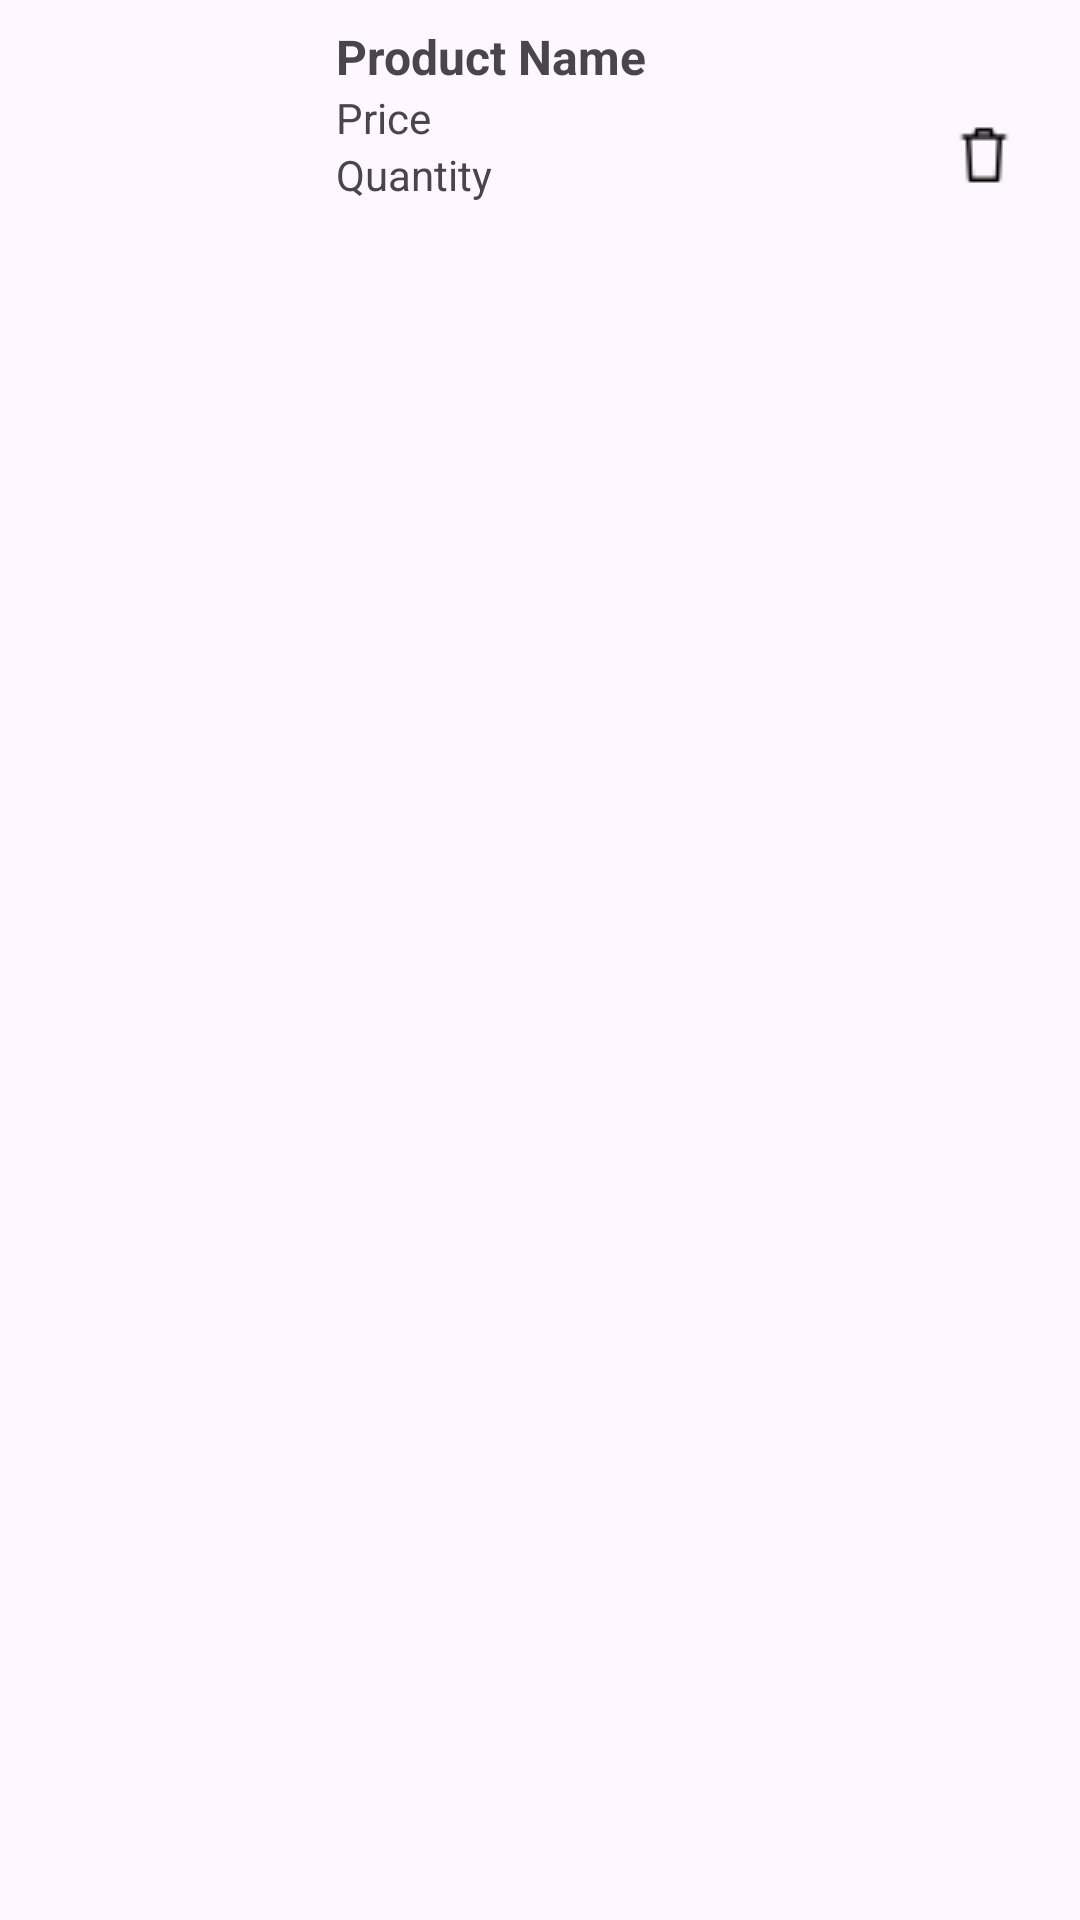

Named icons in this screenshot (1080x1920) and their centers, point (x, y):
delete: point (984, 155)
